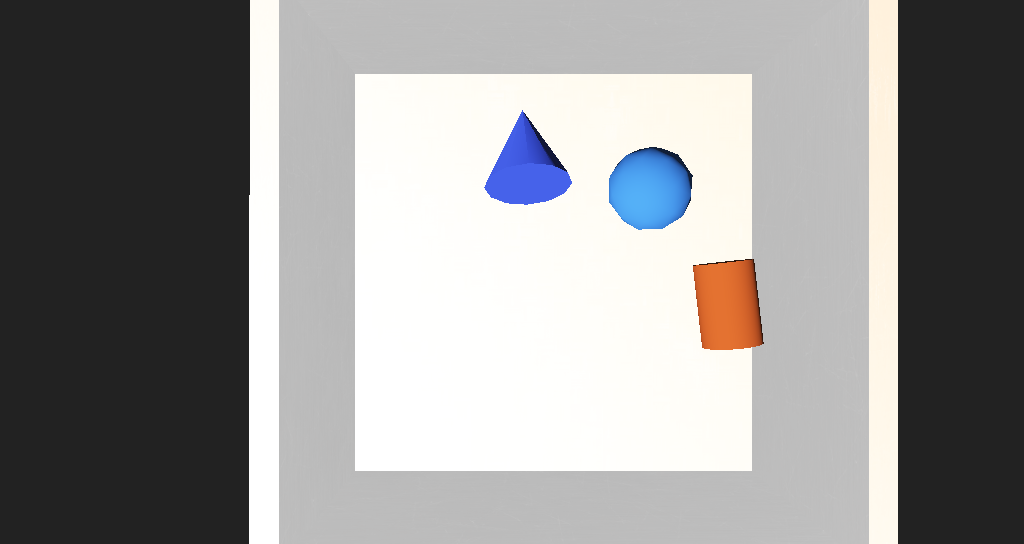cone: (610, 262, 670, 310)
cylinder: (445, 167, 512, 234)
sphere: (549, 200, 610, 248)
